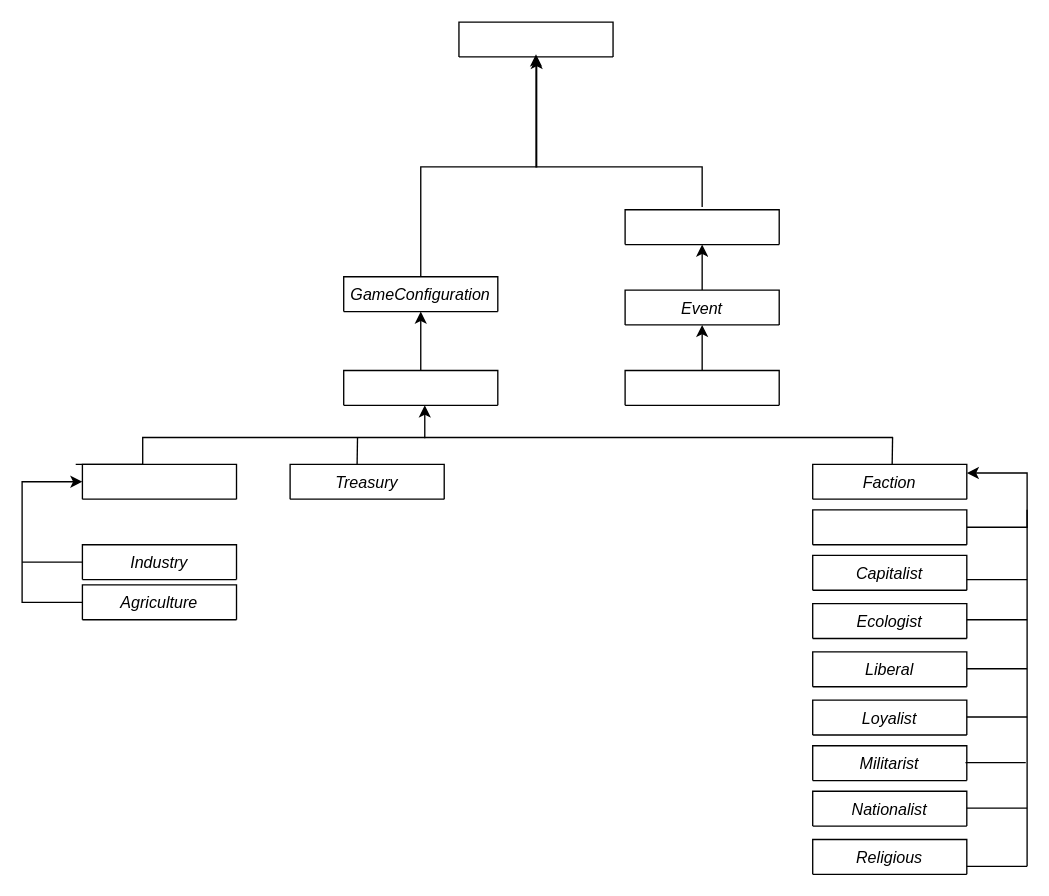
The diagram is 1049 pixels wide and 896 high, and some of its shapes have lost their labels. Each missing label, with the centre of its shape:
ActivityArea: the point at 159,481
Choice: the point at 701,387
Communist: the point at 889,527
Island: the point at 420,387
Season: the point at 701,226
Year: the point at 535,39
